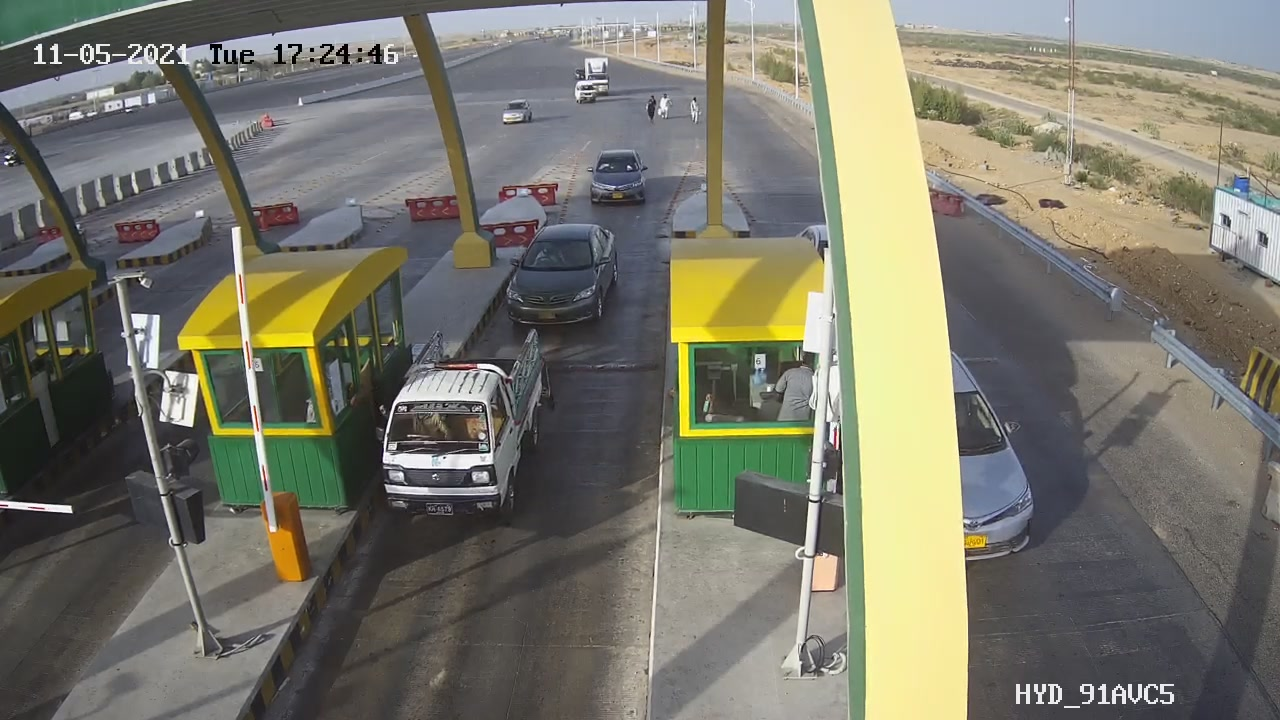F1: (487, 212, 634, 330)
